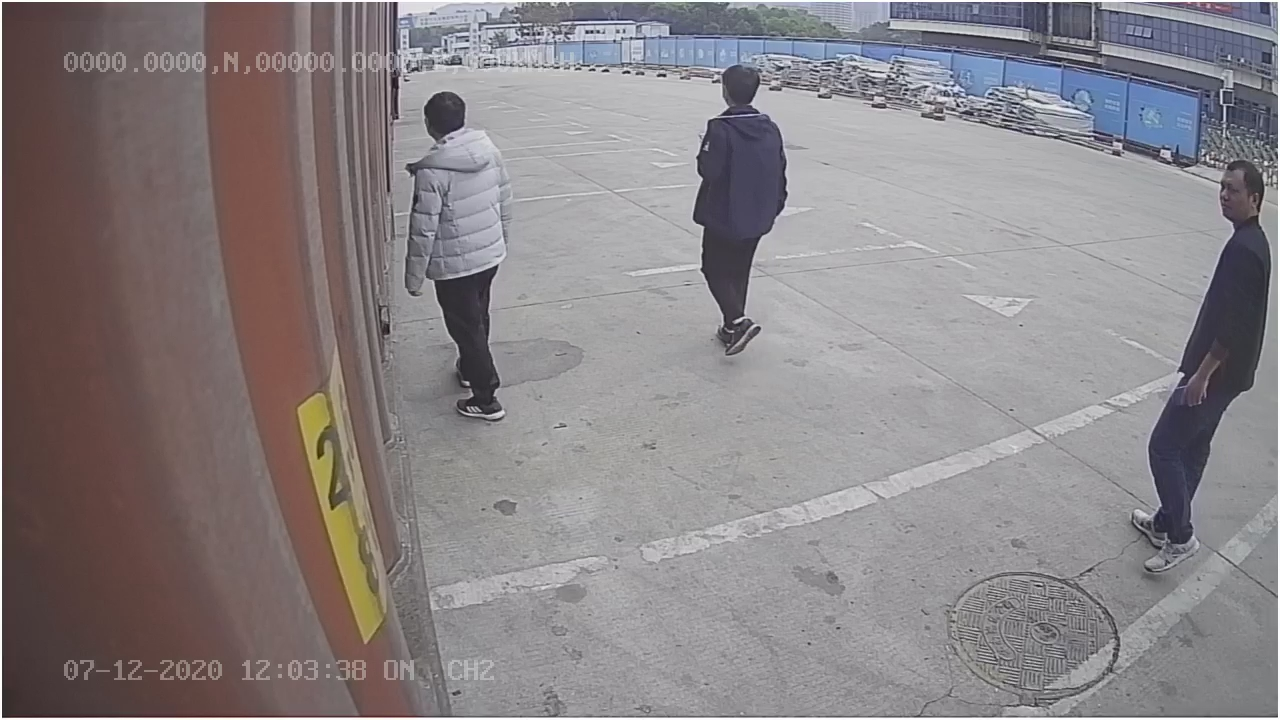person: (1121, 137, 1273, 569), (402, 87, 519, 428), (676, 62, 792, 362)
